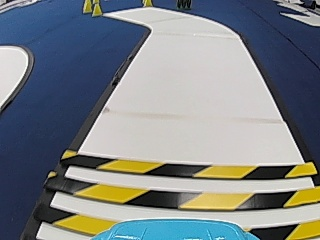bump: (74, 155, 298, 224)
